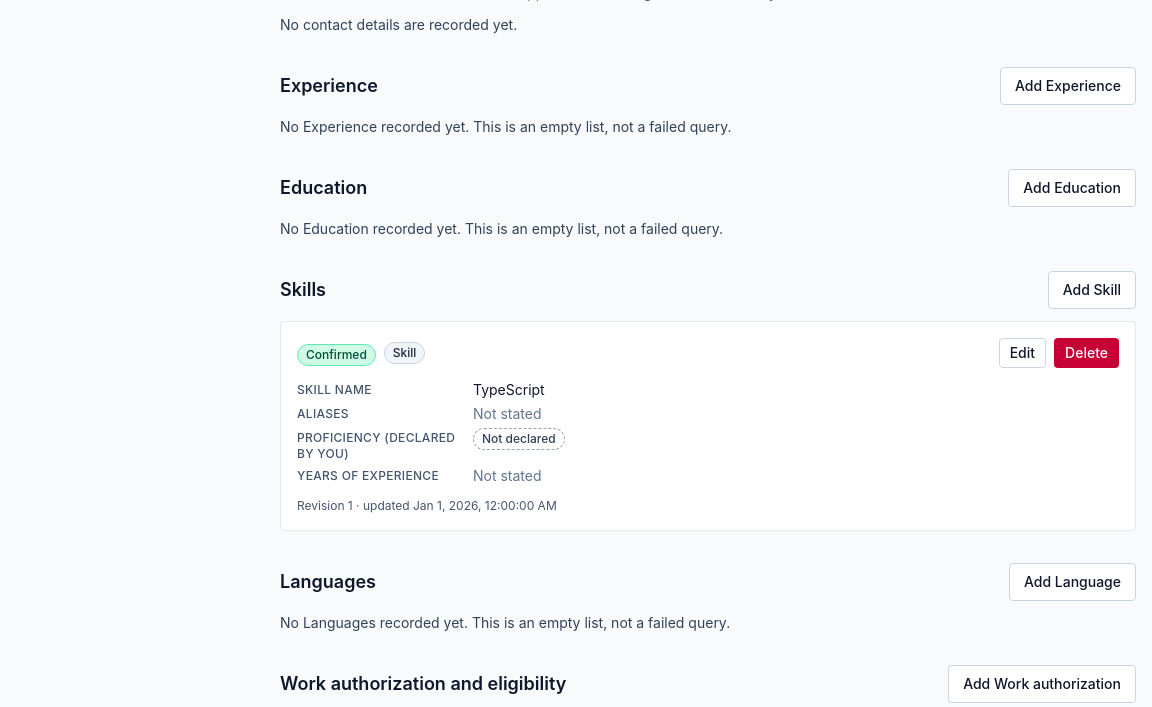
Scenario: profile screen › deletes a fact only after an explicit confirmation dialog
(page scrolled)
Click the button "Delete" at (1087, 353), box [1054,338,1119,368]
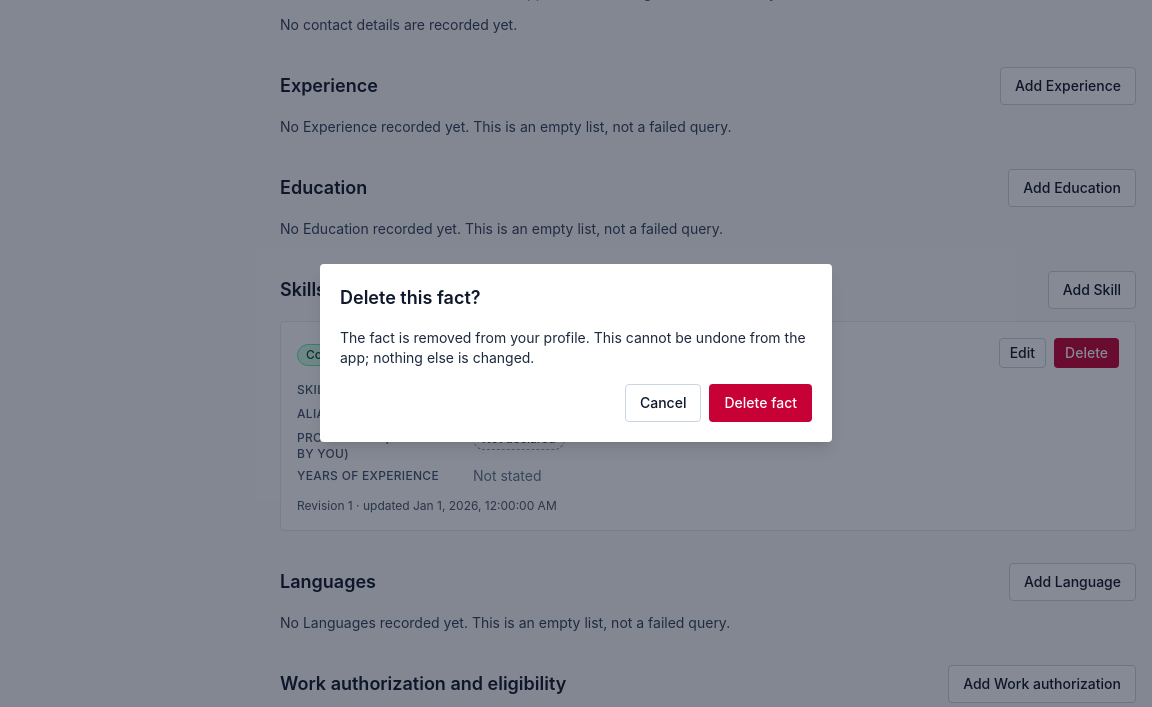
Click the button "Delete fact" at (761, 403), box [710,384,812,422]
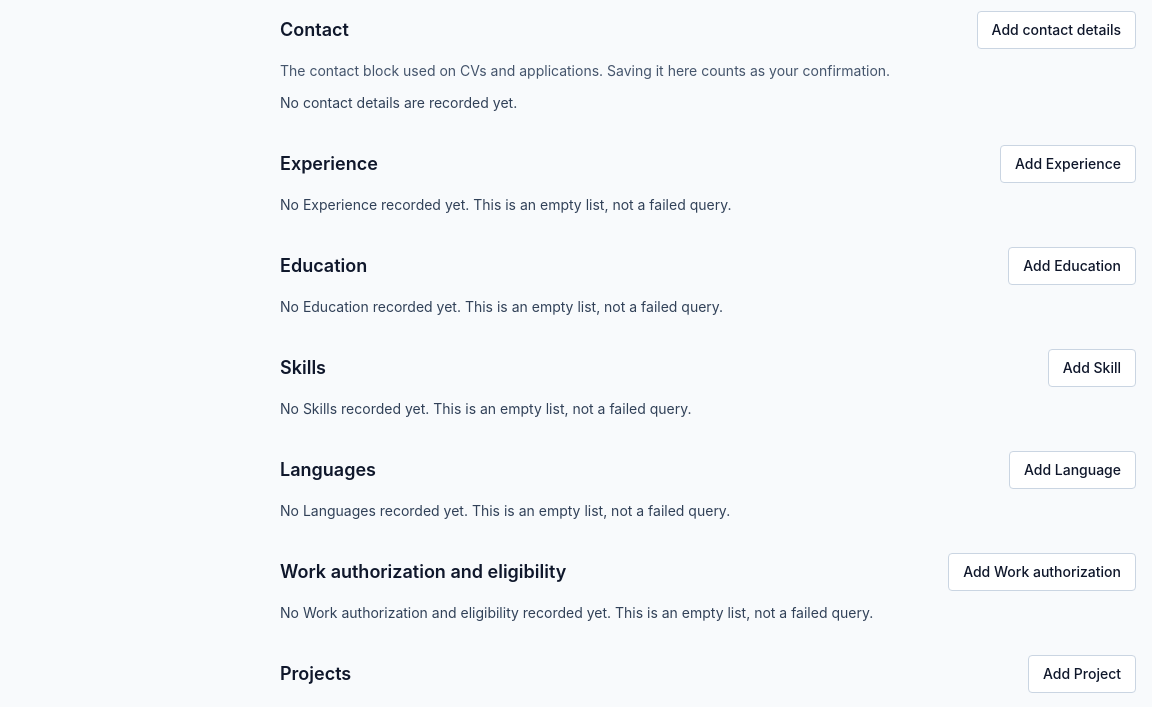
Expected: the text "No Skills recorded yet" is shown, [280,400,692,417]
